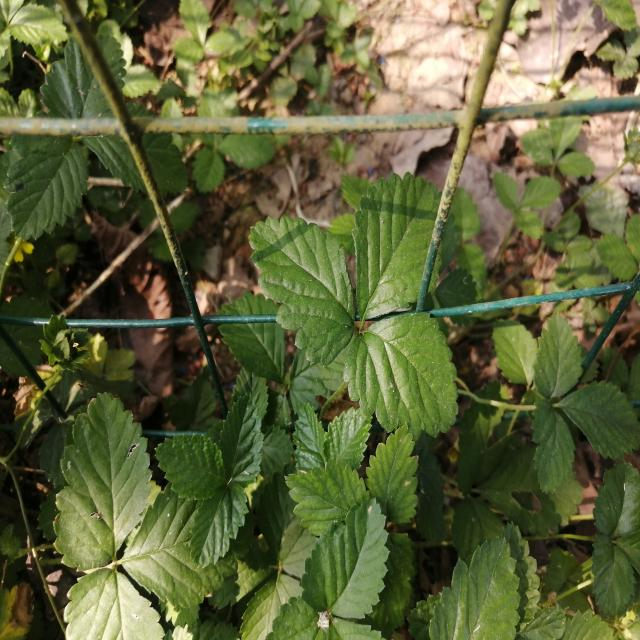Mock_strawberry: (239, 172, 463, 430), (169, 403, 419, 630)
